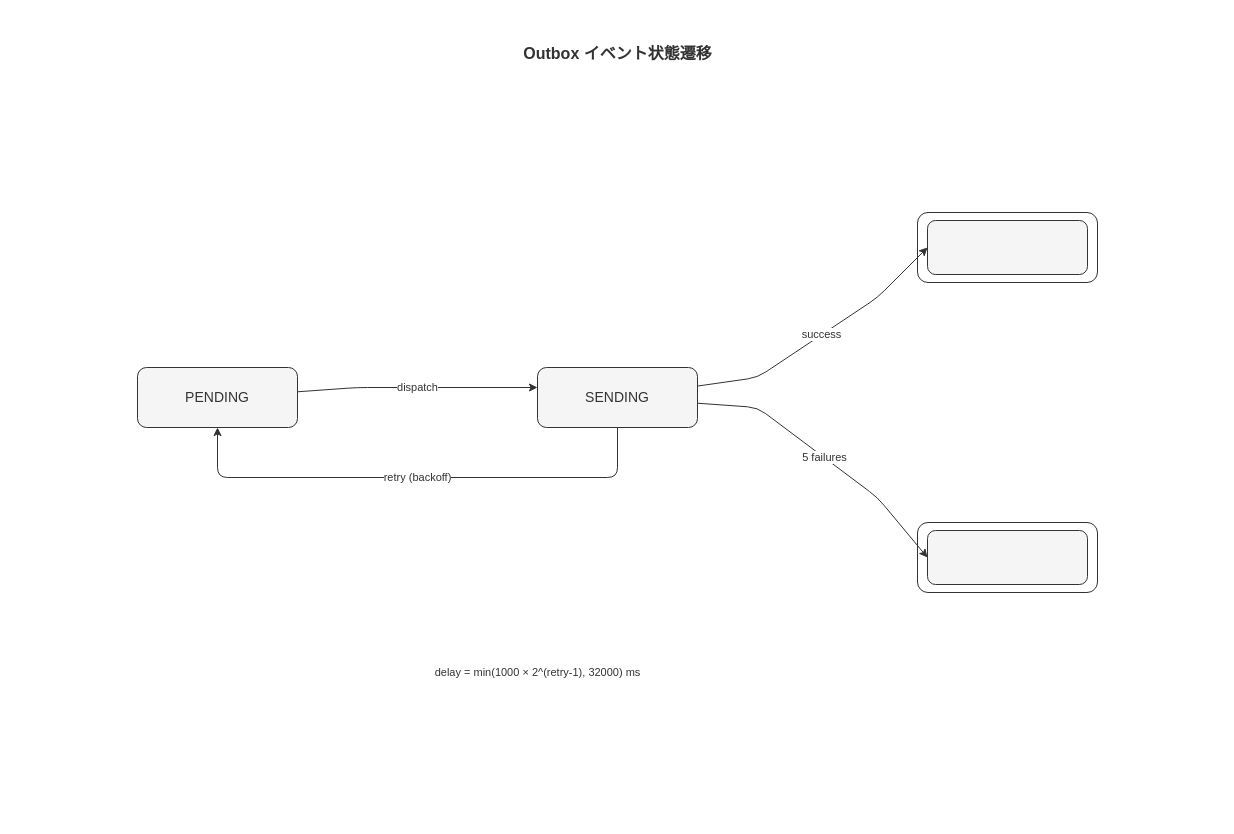
This 1234x834 diagram has some shape labels left out. Here are the shapes that lost their labels. From the top down, the centre of each, then its label:
At pixel 1007 247: "SENT".
At pixel 1007 557: "DEAD_LETTERED".
